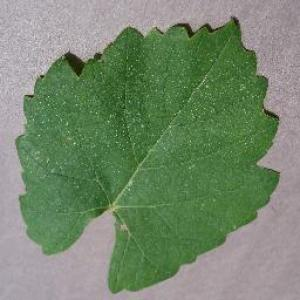Folha: (14, 15, 280, 294)
